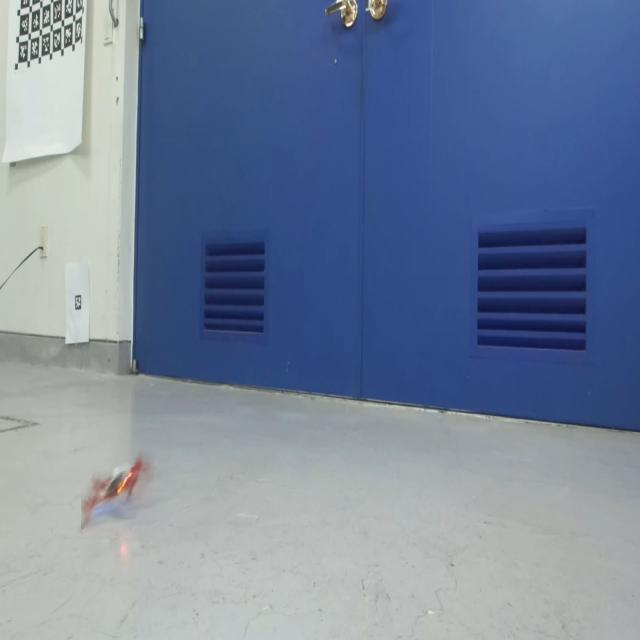crazyflie: (81, 452, 154, 532)
